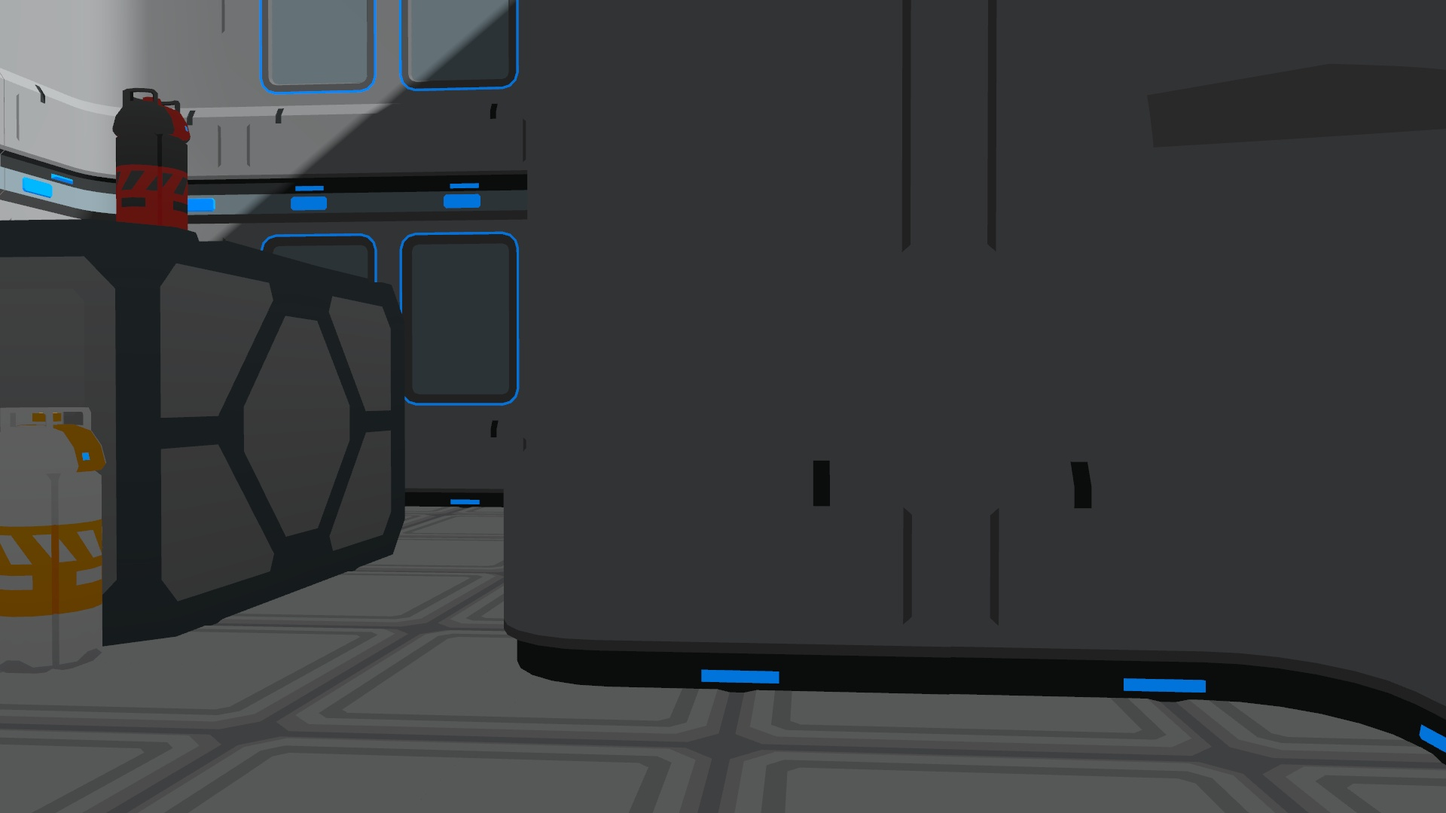red_barrel: (103, 80, 198, 235)
yellow_barrel: (0, 390, 109, 679)
